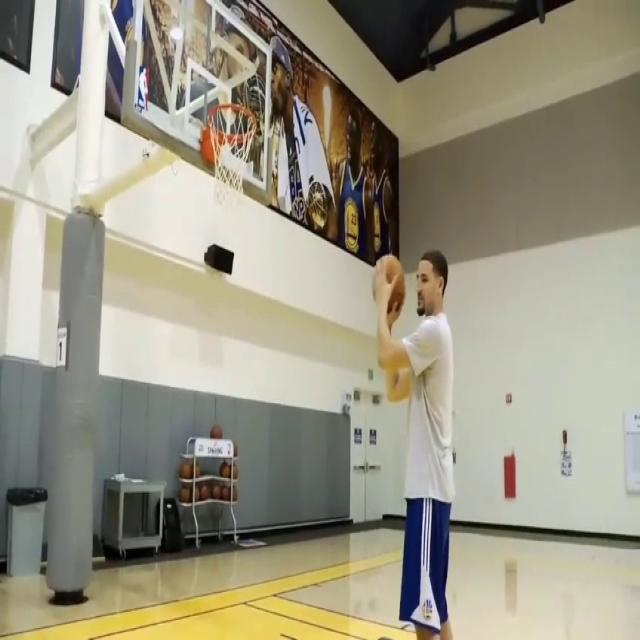ball: (372, 257, 406, 329), (178, 454, 195, 481), (209, 476, 222, 501), (223, 459, 237, 482), (222, 482, 238, 502), (206, 460, 221, 480), (180, 482, 193, 503), (225, 440, 238, 460), (196, 480, 208, 500), (209, 423, 223, 439), (195, 458, 206, 478)
